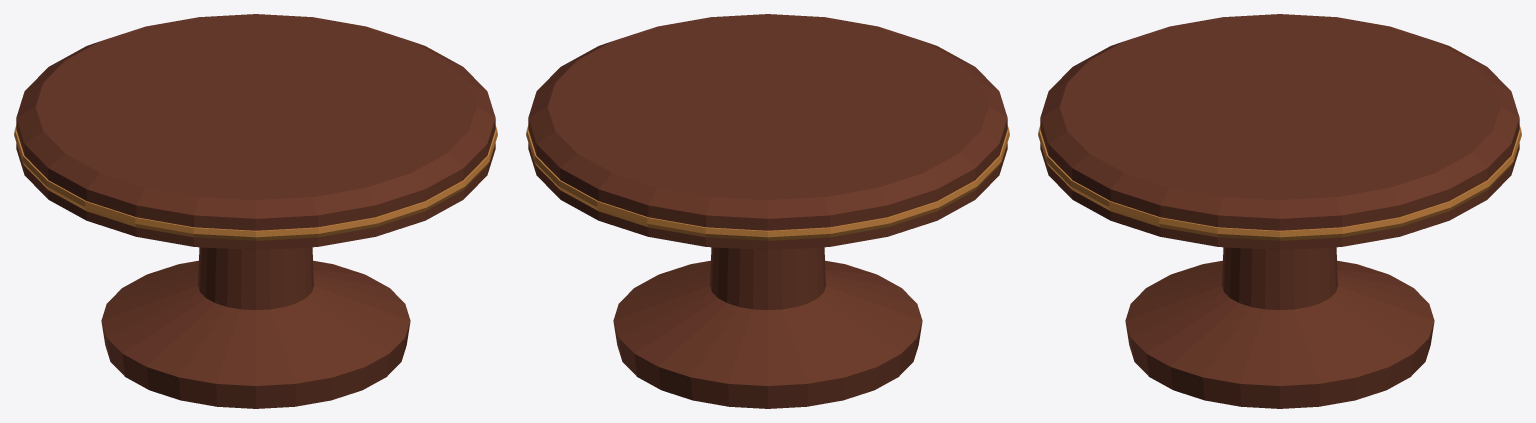
Rendered from coffee-table.glb.
3 views of the same model, side by side, from view 1: azimuth 30°, elevation 25°; view 2: azimuth 150°, elevation 25°; view 3: azimuth 270°, elevation 25° (orthographic).
Parts seen in each view (by area): view 1: coffee-table · Dark carved oak, coffee-table · Hammered gold; view 2: coffee-table · Dark carved oak, coffee-table · Hammered gold; view 3: coffee-table · Dark carved oak, coffee-table · Hammered gold.
Boxes of the visible parts, <box> form: coffee-table · Dark carved oak: <box>16,14,495,408</box>; coffee-table · Hammered gold: <box>14,125,497,240</box>; coffee-table · Dark carved oak: <box>528,14,1007,408</box>; coffee-table · Hammered gold: <box>526,125,1009,240</box>; coffee-table · Dark carved oak: <box>1040,14,1519,408</box>; coffee-table · Hammered gold: <box>1038,125,1521,240</box>.
Bounding box in the file's own units: 1.25 × 0.68 × 1.25.
